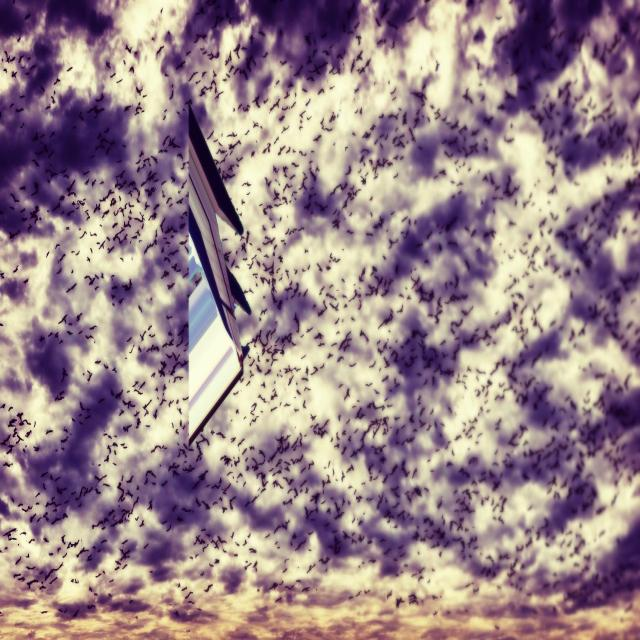airplane: (184, 100, 252, 446)
